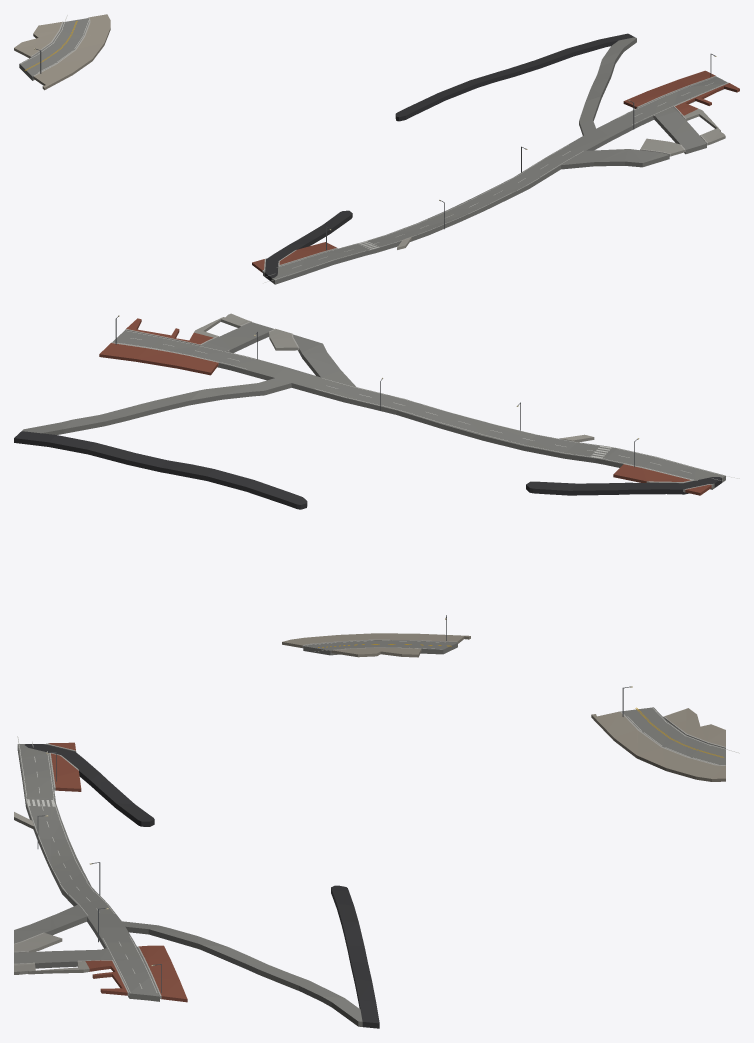
The model's file is 18-218902-118950.e64caa80.glb.
The picture shows the model from 3 angles, top to bottom: view 1: azimuth 30°, elevation 25°; view 2: azimuth 150°, elevation 25°; view 3: azimuth 270°, elevation 25°; orthographic projection. The views are drawn at different scales.
Size of the model in its own units: 150 by 19.82 by 149.
